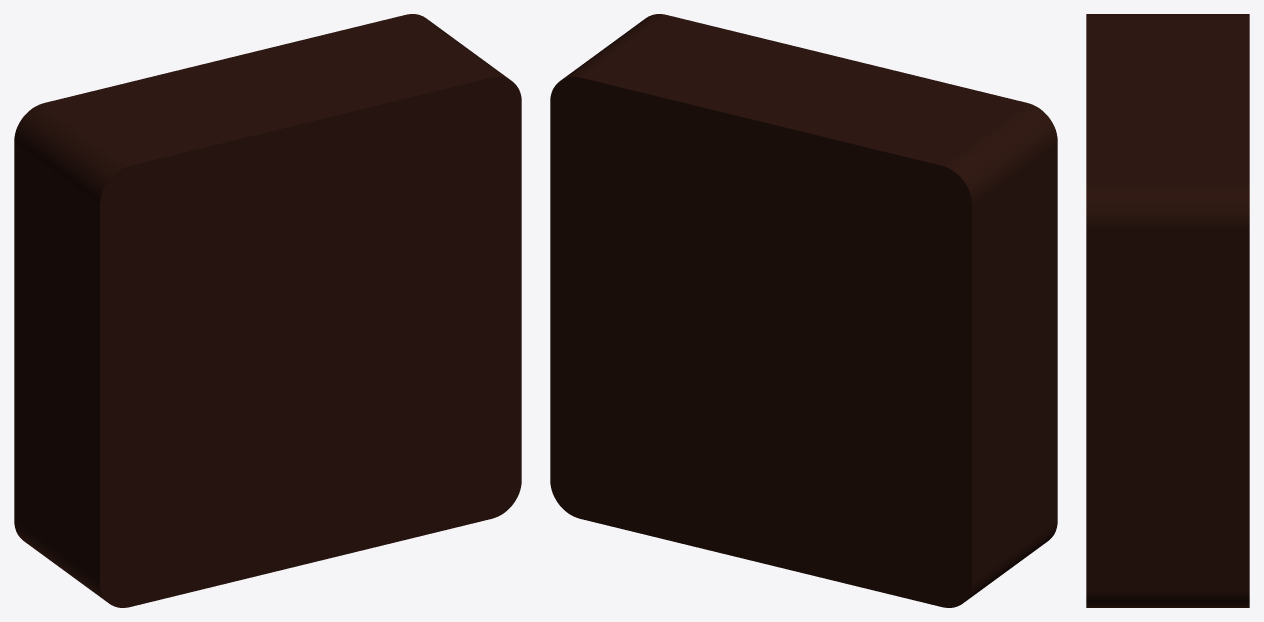
3 renders of one model, left to right at view 1: azimuth 30°, elevation 25°; view 2: azimuth 150°, elevation 25°; view 3: azimuth 270°, elevation 25°, orthographic. The views are drawn at different scales.
Visible parts, largest first — view 1: U+1F7EB_layer00_obj00; view 2: U+1F7EB_layer00_obj00; view 3: U+1F7EB_layer00_obj00.
Part boxes in pixels (left/top/right/bottom): U+1F7EB_layer00_obj00: left=14, top=14, right=521, bottom=607; U+1F7EB_layer00_obj00: left=550, top=14, right=1057, bottom=607; U+1F7EB_layer00_obj00: left=1086, top=14, right=1249, bottom=607.
Size of the model in its own units: 0.5678 by 0.5677 by 0.2.
